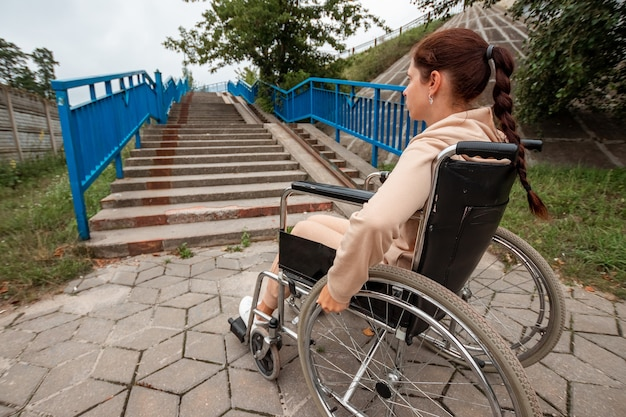wheelchair: (227, 29, 566, 417)
